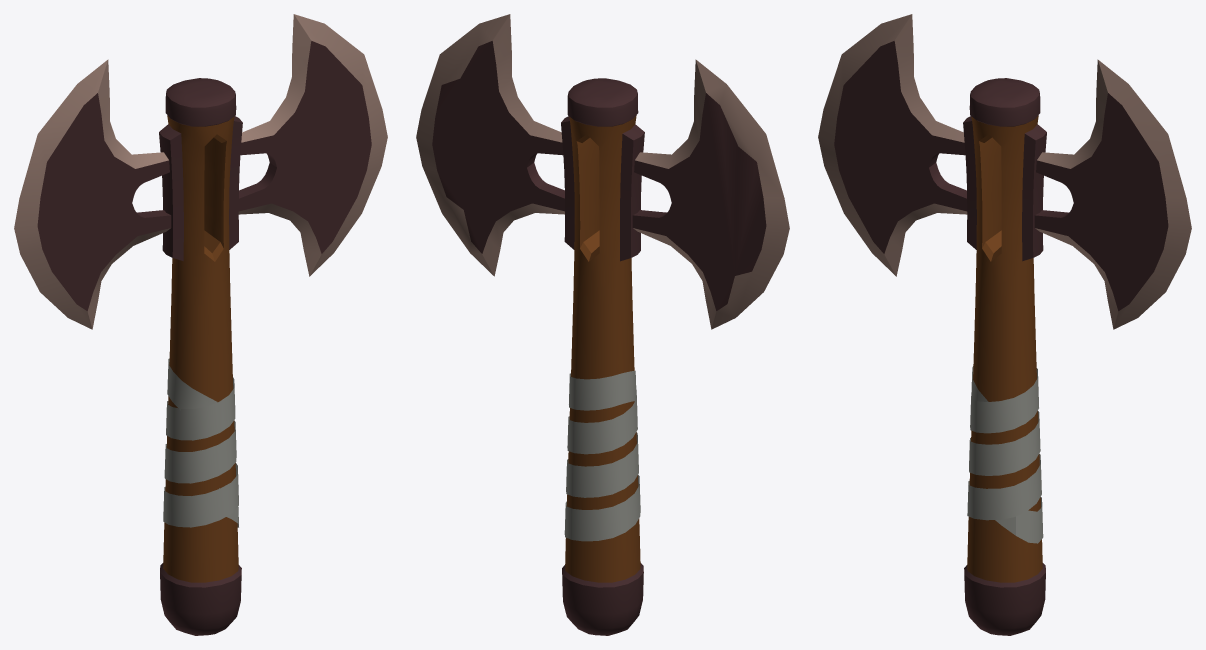
Rendered from quaternius-pirate-weapon-doubleaxe.glb.
3 renders of one model, left to right at view 1: azimuth 30°, elevation 25°; view 2: azimuth 150°, elevation 25°; view 3: azimuth 330°, elevation 25°, orthographic.
Parts seen in each view (by area): view 1: Weapon_DoubleAxe; view 2: Weapon_DoubleAxe; view 3: Weapon_DoubleAxe.
Boxes of the visible parts, left/top/right/bottom form: Weapon_DoubleAxe: left=14, top=14, right=387, bottom=635; Weapon_DoubleAxe: left=416, top=14, right=789, bottom=635; Weapon_DoubleAxe: left=818, top=14, right=1191, bottom=635.
Bounding box in the file's own units: 0.6627 × 1.01 × 0.1247.
Materials: 1 (1 with a texture image).
